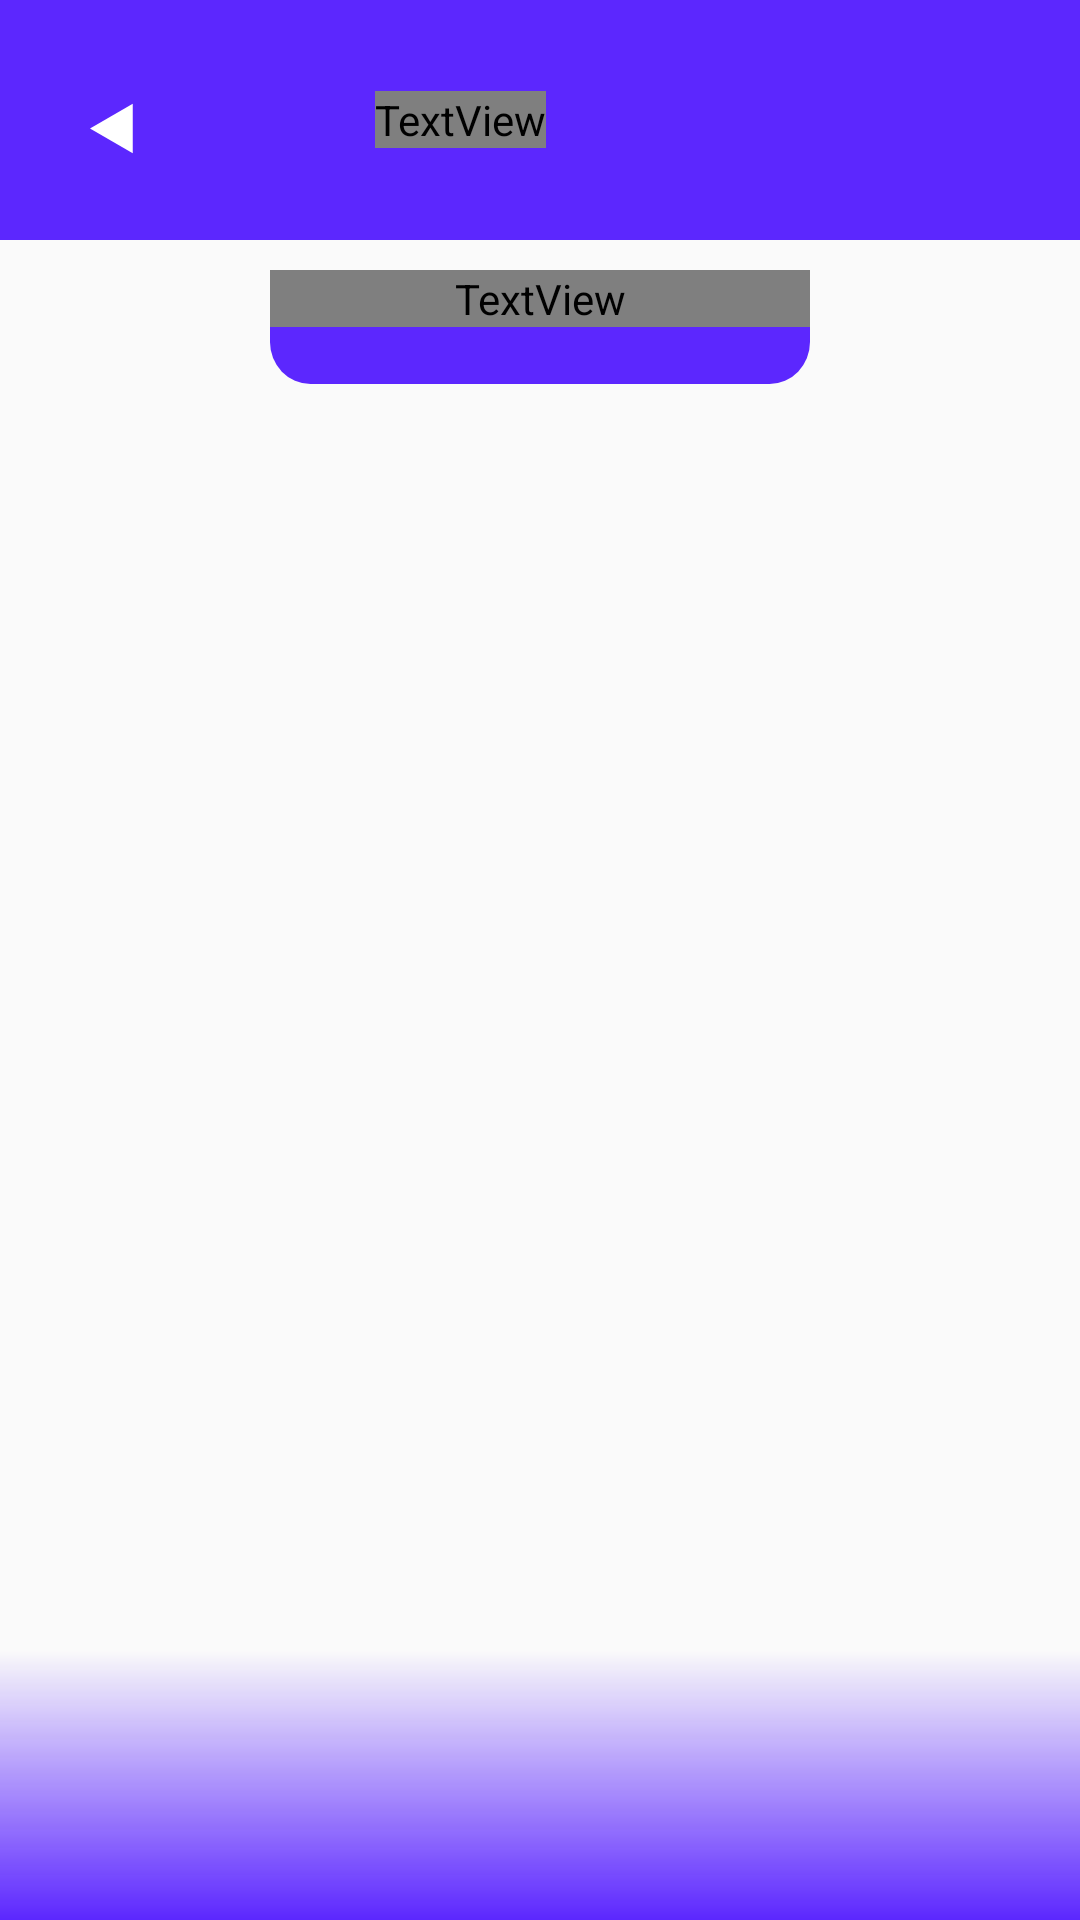

Named icons in this screenshot (1080 × 1920) and their bounding boxes, BBox(x1, y1, x2, y2):
back arrow: BBox(90, 104, 133, 153)
